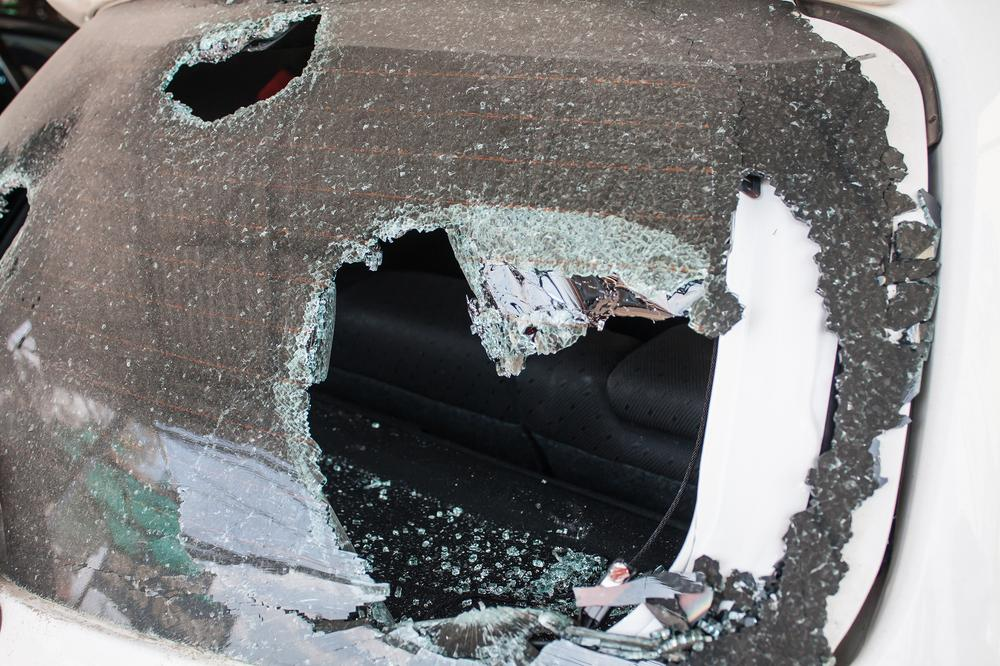glass shatter: (0, 0, 935, 666)
